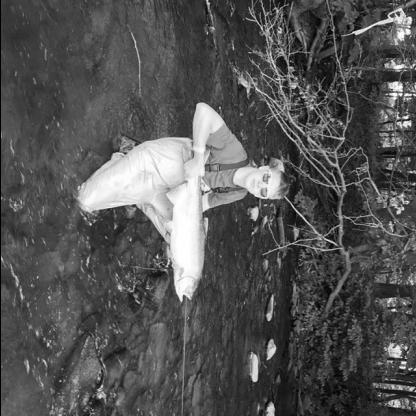fish: (166, 142, 214, 302)
